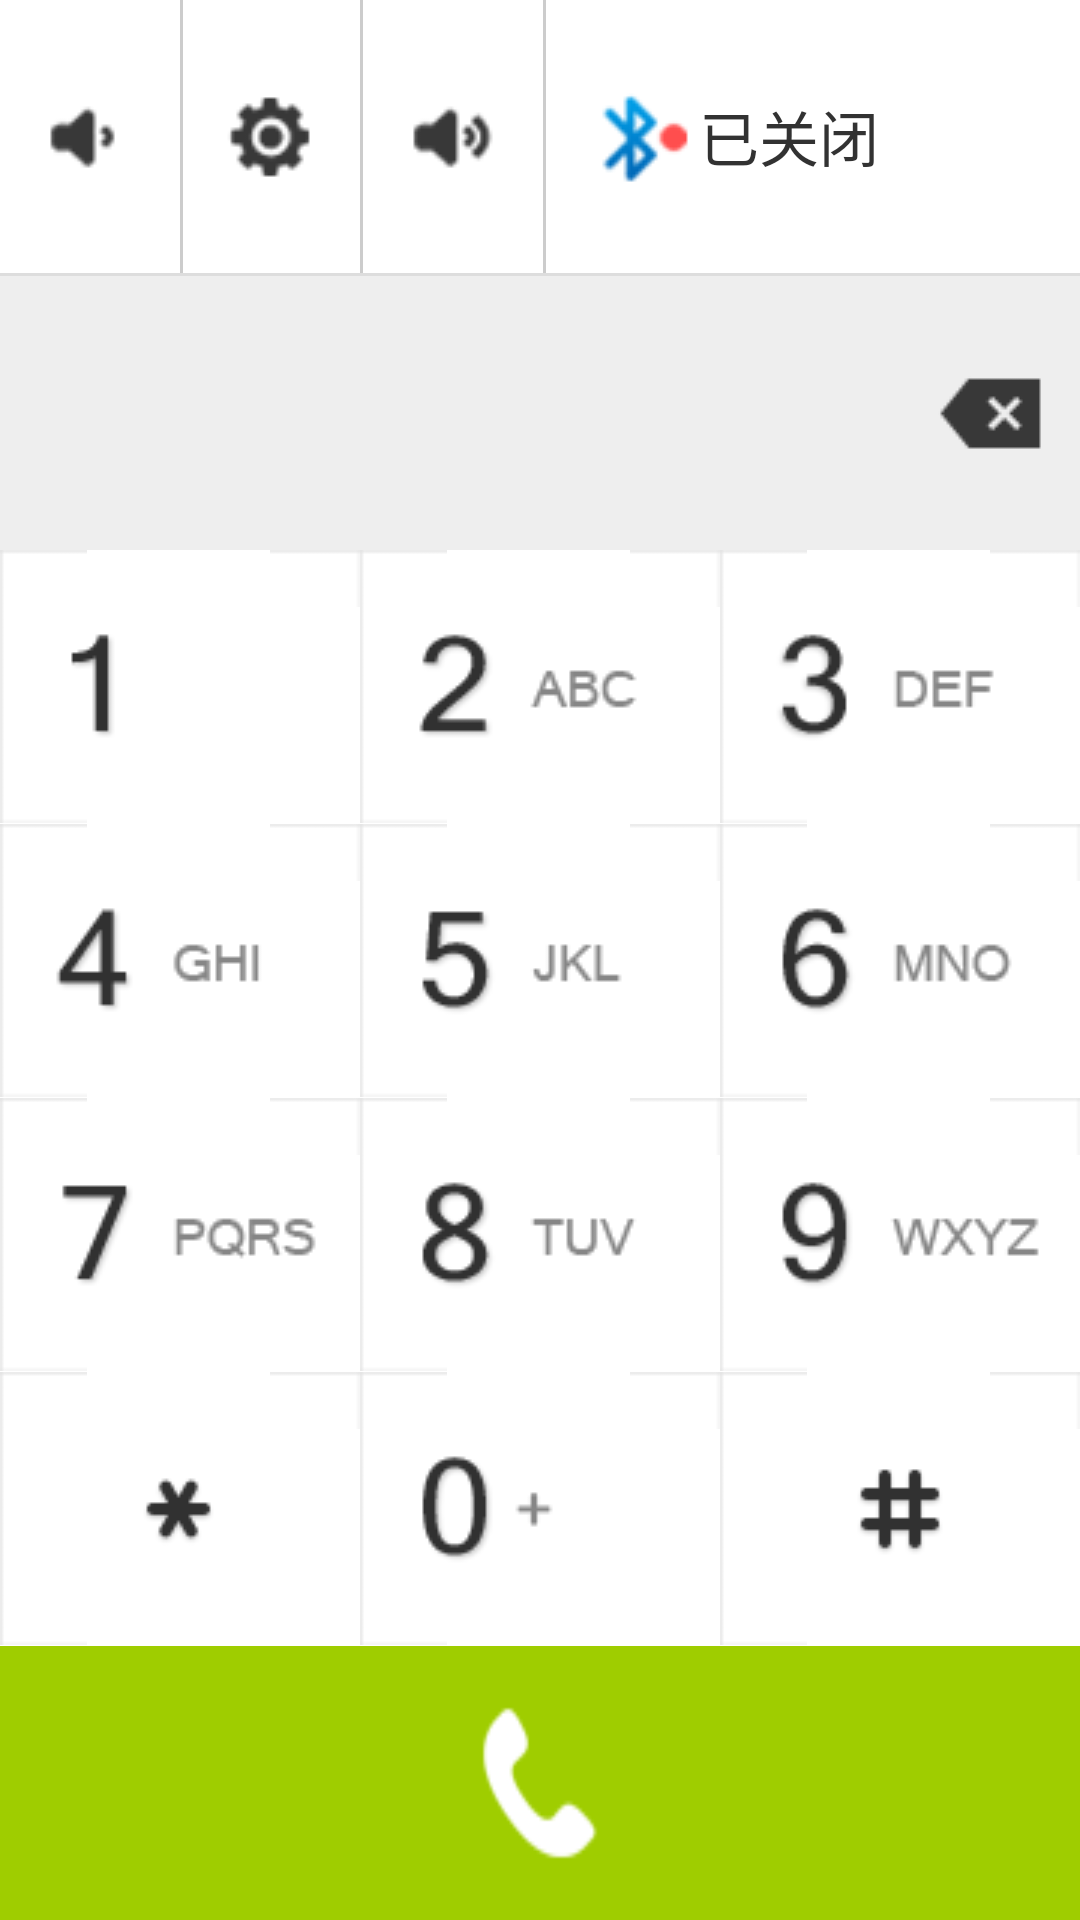

Icons on this 1080w x 1920h Android screen, each with the point to tap as [x,y]:
me number delete: [990,413]
settings: [270,137]
volume add: [452,138]
volume reduce: [82,138]
